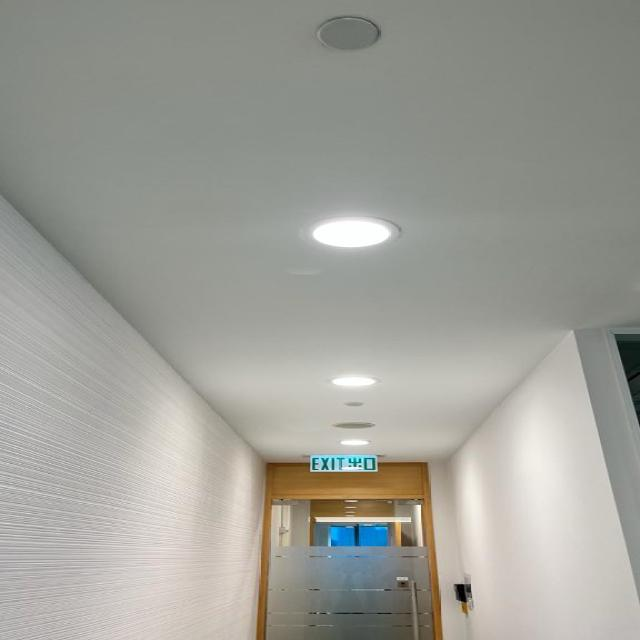Light-Opened: (292, 213, 406, 251), (322, 368, 383, 394), (336, 435, 378, 449)
